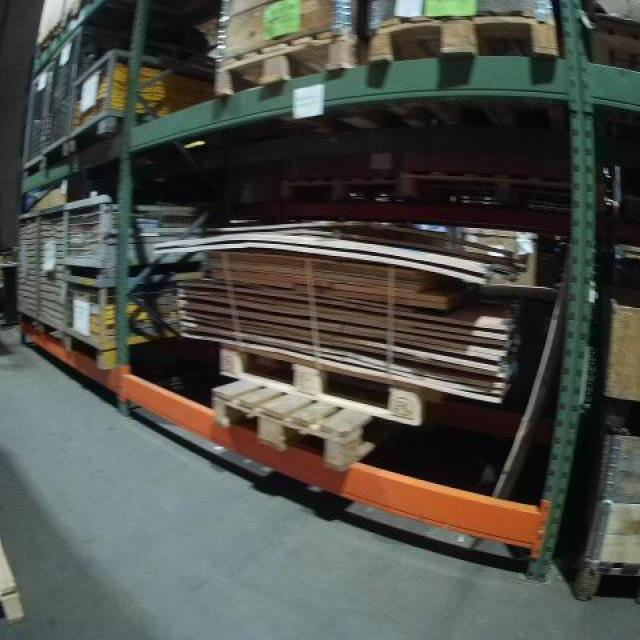pallet: (215, 334, 455, 425), (212, 376, 384, 470), (362, 11, 565, 70), (214, 25, 360, 99)
stillage: (69, 50, 234, 159), (70, 263, 219, 375), (41, 26, 135, 181), (64, 196, 218, 275), (35, 204, 74, 349), (19, 53, 59, 189), (12, 208, 39, 333)
